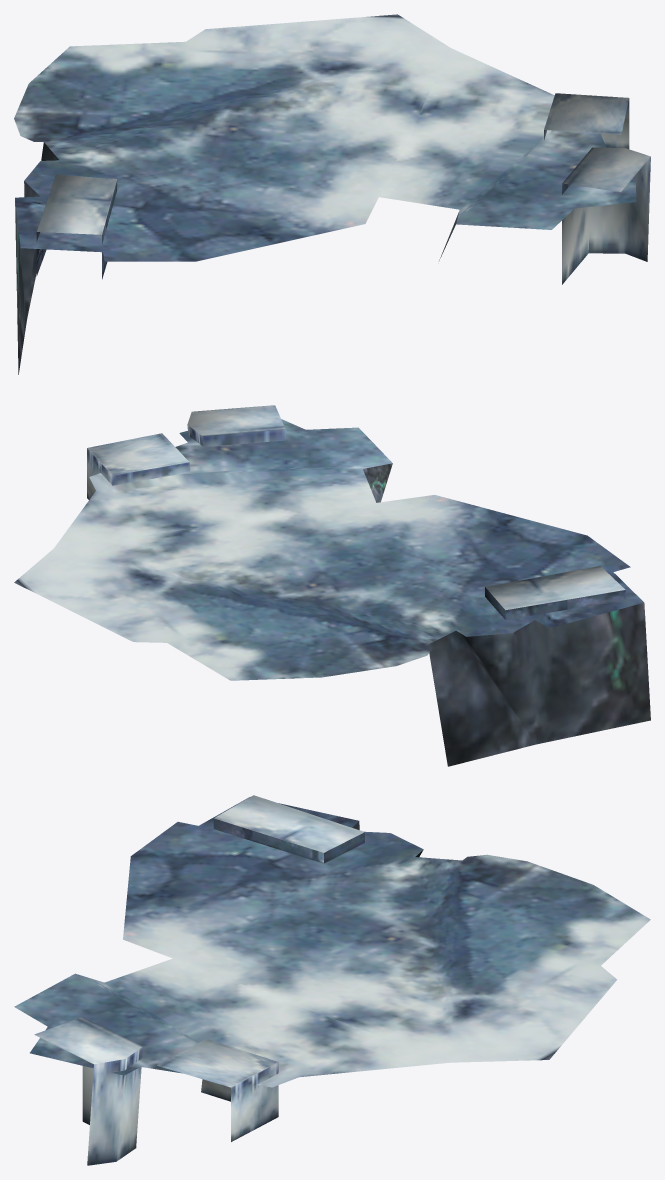
The model's file is S_Build_Snowland208_5.FBX.
3 views of the same model, one above another, from view 1: azimuth 30°, elevation 25°; view 2: azimuth 150°, elevation 25°; view 3: azimuth 270°, elevation 25° (orthographic). The views are drawn at different scales.
Parts seen in each view (by area): view 1: S_Build_Snowland208_5; view 2: S_Build_Snowland208_5; view 3: S_Build_Snowland208_5.
Part boxes in pixels (bbox=[...]): S_Build_Snowland208_5: bbox=[14, 14, 650, 374]; S_Build_Snowland208_5: bbox=[14, 405, 650, 766]; S_Build_Snowland208_5: bbox=[14, 795, 650, 1165].
Bounding box in the file's own units: 620 × 549 × 135.
